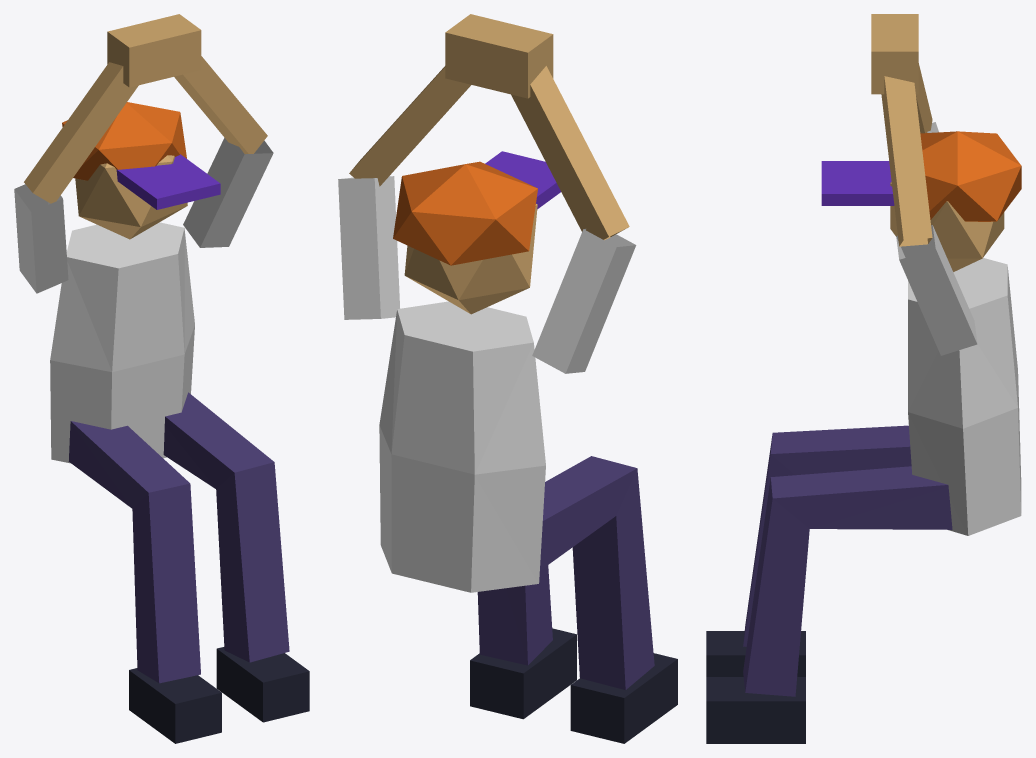
Rendered from fan-5.glb.
The picture shows the model from 3 angles, left to right: view 1: azimuth 30°, elevation 25°; view 2: azimuth 150°, elevation 25°; view 3: azimuth 270°, elevation 25°; orthographic projection. The views are drawn at different scales.
Parts seen in each view (by area): view 1: fan-5; view 2: fan-5; view 3: fan-5.
Part boxes in pixels (x1=…): fan-5: x1=14, y1=14, x2=309, y2=743; fan-5: x1=338, y1=14, x2=677, y2=743; fan-5: x1=706, y1=14, x2=1021, y2=743.
Bounding box in the file's own units: 0.5717 × 1.42 × 0.6017.
